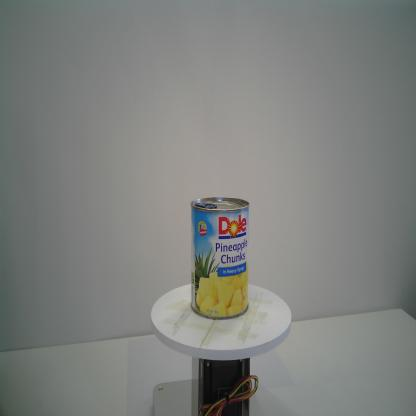Canned Food: (190, 196, 250, 321)
